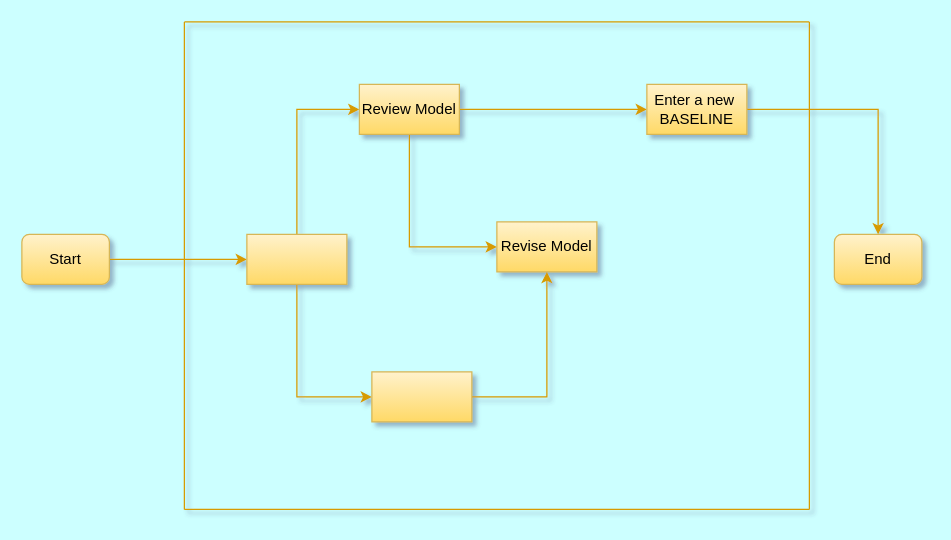
This 951x540 diagram has some shape labels left out. Here are the shapes that lost their labels. From the top down, the centre of each, then its label:
At pixel 296 258: "Devlop Model".
At pixel 421 396: "Wait of Changes".
